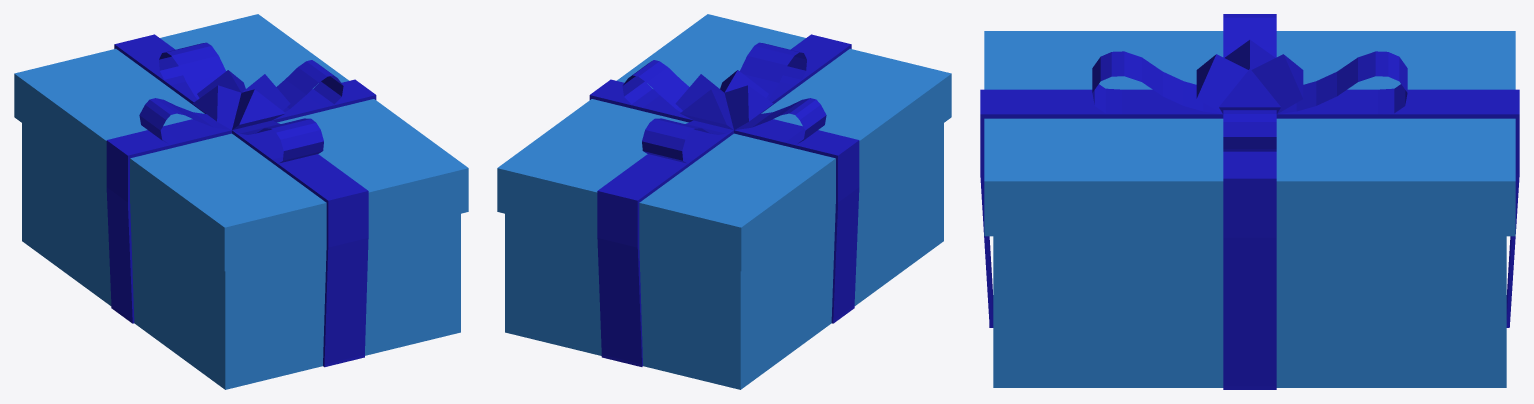
Rendered from Present_Rectangle_Blue.fbx.
3 renders of one model, left to right at view 1: azimuth 30°, elevation 25°; view 2: azimuth 150°, elevation 25°; view 3: azimuth 270°, elevation 25°, orthographic. The views are drawn at different scales.
Parts seen in each view (by area): view 1: Present; view 2: Present; view 3: Present.
Boxes of the visible parts, x1=… form: Present: x1=14, y1=14, x2=468, y2=389; Present: x1=497, y1=14, x2=951, y2=389; Present: x1=980, y1=14, x2=1519, y2=389.
Size of the model in its own units: 164 by 130 by 244.
